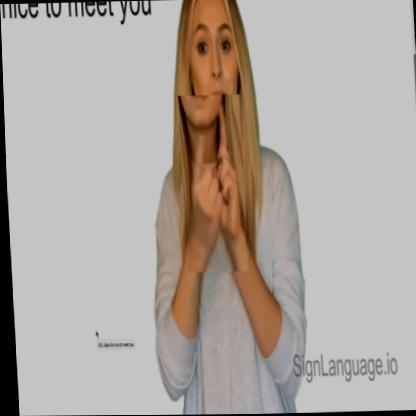NiceToMeetYou: (177, 94, 246, 272)
